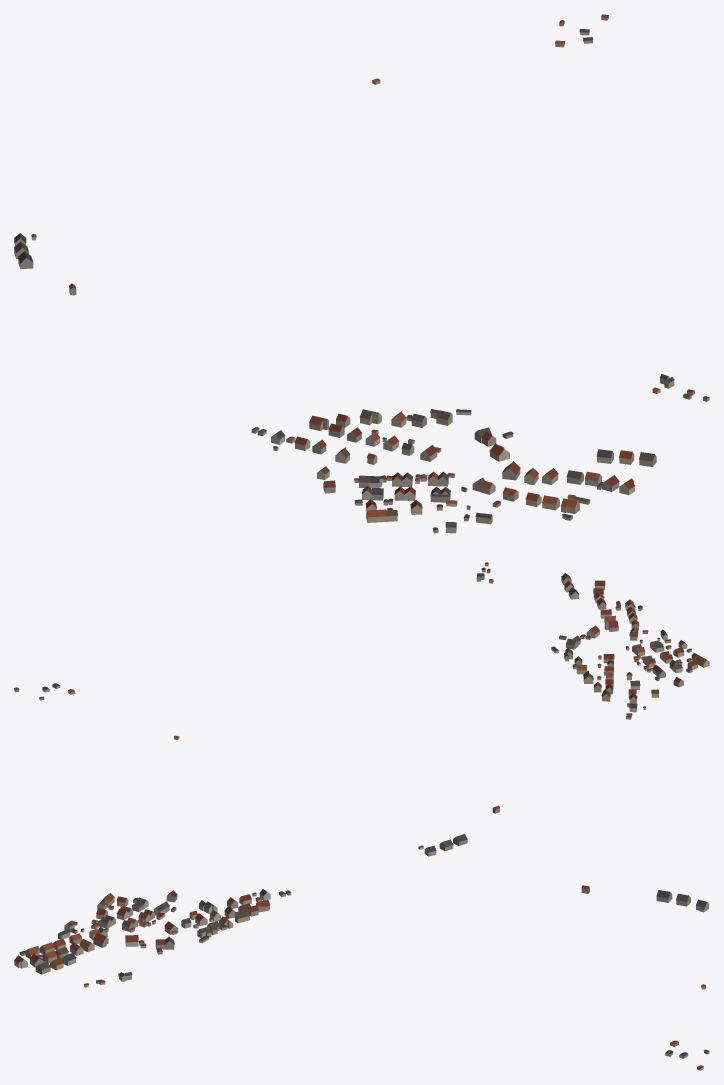
The picture shows the model from 3 angles, top to bottom: view 1: azimuth 30°, elevation 25°; view 2: azimuth 150°, elevation 25°; view 3: azimuth 270°, elevation 25°; orthographic projection. The views are drawn at different scales.
Parts seen in each view (by area): view 1: buildings; view 2: buildings; view 3: buildings.
Boxes of the visible parts, box(x1,y1,x2,y2) form: buildings: box(14, 14, 709, 533); buildings: box(14, 562, 709, 856); buildings: box(14, 885, 709, 1070).
Bounding box in the file's own units: 657 × 99.45 × 801.
